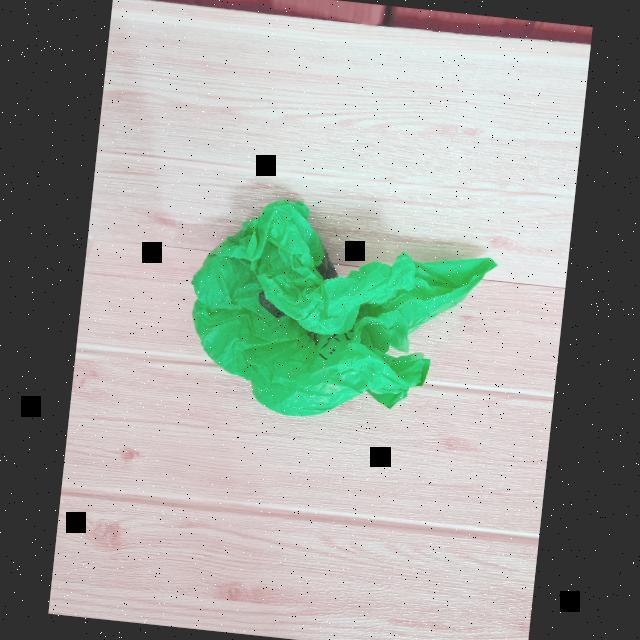plastic_bag: (172, 192, 485, 436)
